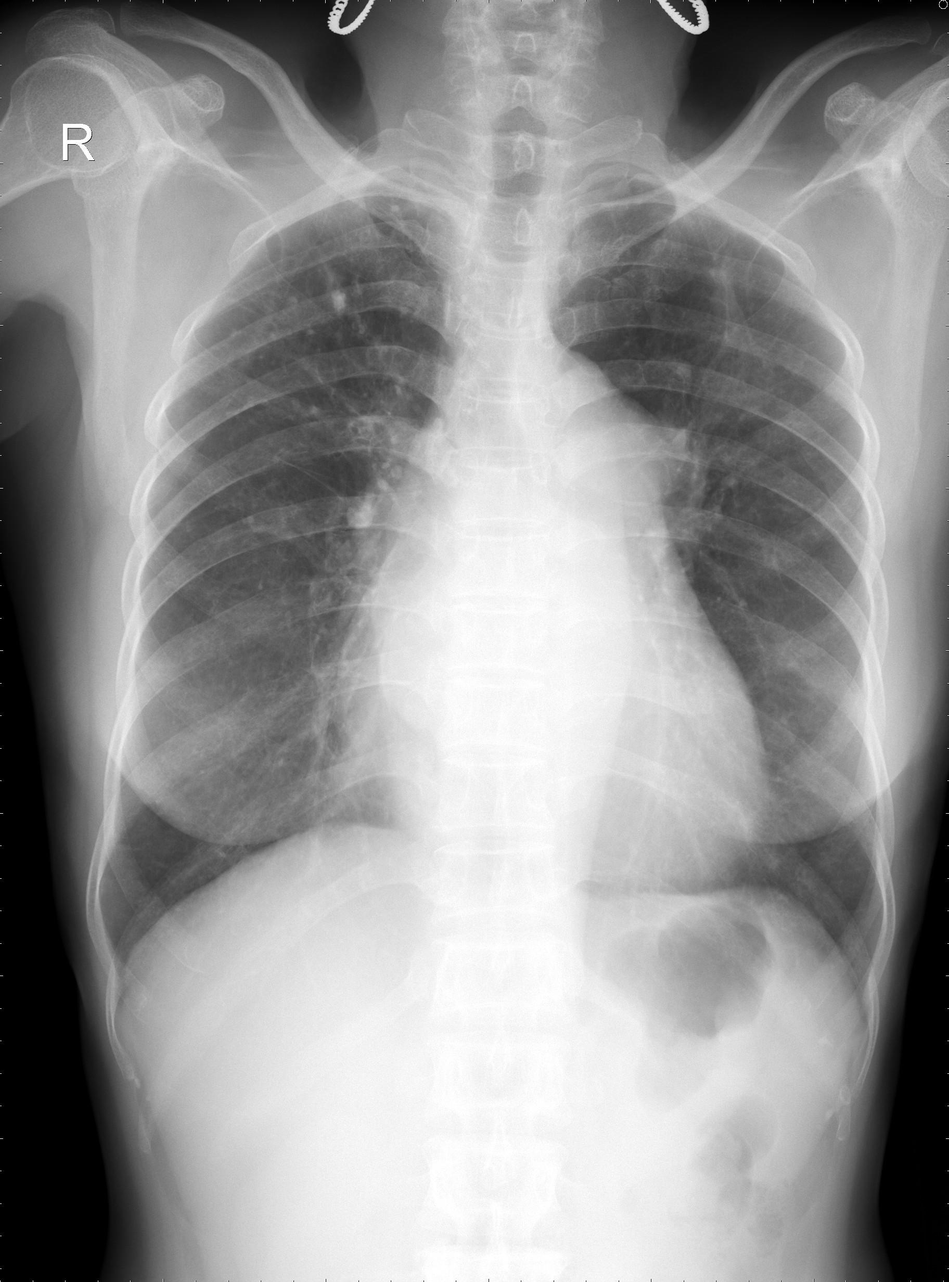Cardiomegaly: (324, 648, 766, 879)
Pulmonary fibrosis: (300, 232, 353, 322)
